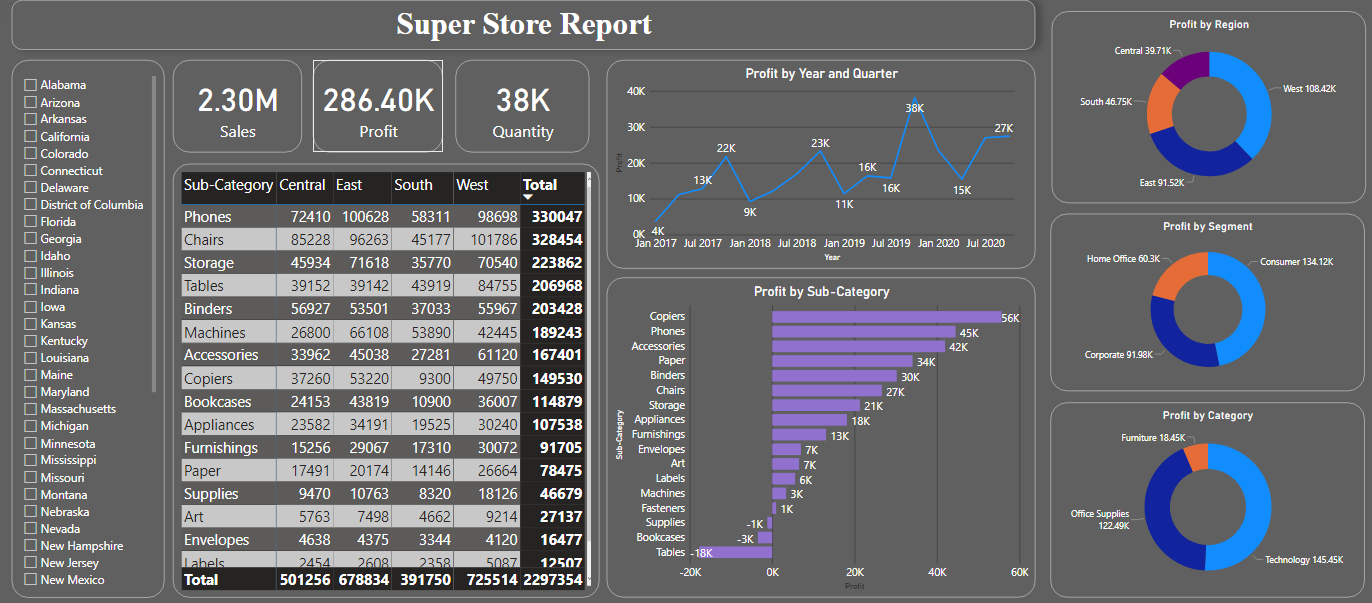

This screenshot's page, from the dashboard's own definition file:
{"tool":"powerbi","page":{"name":"Page 1","canvas":[2500,1100],"ordinal":0},"visuals":[{"type":"actionButton","box":[0,0,100,40],"z":0},{"type":"textbox","box":[24,0,1861,90.1],"z":1000},{"type":"donutChart","fields":{"Category":["Orders.Category"],"Y":["Sum(Orders.Profit)"]},"box":[1913.1,731.2,570.9,354.6],"z":2000},{"type":"donutChart","fields":{"Y":["Sum(Orders.Profit)"],"Category":["Orders.Segment"]},"box":[1913.1,388.6,570.9,322.5],"z":3000},{"type":"donutChart","fields":{"Y":["Sum(Orders.Profit)"],"Category":["Orders.Region"]},"box":[1915.1,20,570.9,348.6],"z":4000},{"type":"barChart","fields":{"Category":["Orders.Sub-Category"],"Y":["Sum(Orders.Profit)"]},"box":[1106.8,504.5,779.5,581.8],"z":5000},{"type":"lineChart","fields":{"Category":["Orders.Order Date.Variation.Date Hierarchy.Year","Orders.Order Date.Variation.Date Hierarchy.Quarter","Orders.Order Date.Variation.Date Hierarchy.Month","Orders.Order Date.Variation.Date Hierarchy.Day"],"Y":["Sum(Orders.Profit)"]},"box":[1106.8,109.1,779.5,379.5],"z":6000},{"type":"slicer","fields":{"Values":["Orders.State"]},"box":[25,109.1,277.3,977.3],"z":7000},{"type":"pivotTable","fields":{"Rows":["Orders.Sub-Category"],"Columns":["Orders.Region"],"Values":["Sum(Orders.Sales)"]},"box":[318.2,297.7,775,788.6],"z":8000},{"type":"card","fields":{"Values":["Sum(Orders.Sales)"]},"box":[318.2,109.1,234.1,168.2],"z":9000},{"type":"card","fields":{"Values":["Sum(Orders.Profit)"]},"box":[572.7,109.1,236.4,168.2],"z":10000},{"type":"card","fields":{"Values":["Sum(Orders.Quantity)"]},"box":[831.8,109.1,243.2,168.2],"z":11000}]}

Visuals, with their boxes in screenshot pixels (x1, y1, x2, y2), scaled from the page's 2500x1100 canvas onto the 1372x603 screenshot:
actionButton: [0,0,55,22]
textbox: [13,0,1034,49]
donutChart - Orders.Category x Sum(Orders.Profit): [1050,401,1363,595]
donutChart - Sum(Orders.Profit) x Orders.Segment: [1050,213,1363,390]
donutChart - Sum(Orders.Profit) x Orders.Region: [1051,11,1364,202]
barChart - Orders.Sub-Category x Sum(Orders.Profit): [607,277,1035,595]
lineChart - Orders.Order Date.Variation.Date Hierarchy.Year x Orders.Order Date.Variation.Date Hierarchy.Quarter: [607,60,1035,268]
slicer - Orders.State: [14,60,166,596]
pivotTable - Orders.Sub-Category x Orders.Region: [175,163,600,595]
card - Sum(Orders.Sales): [175,60,303,152]
card - Sum(Orders.Profit): [314,60,444,152]
card - Sum(Orders.Quantity): [456,60,590,152]
